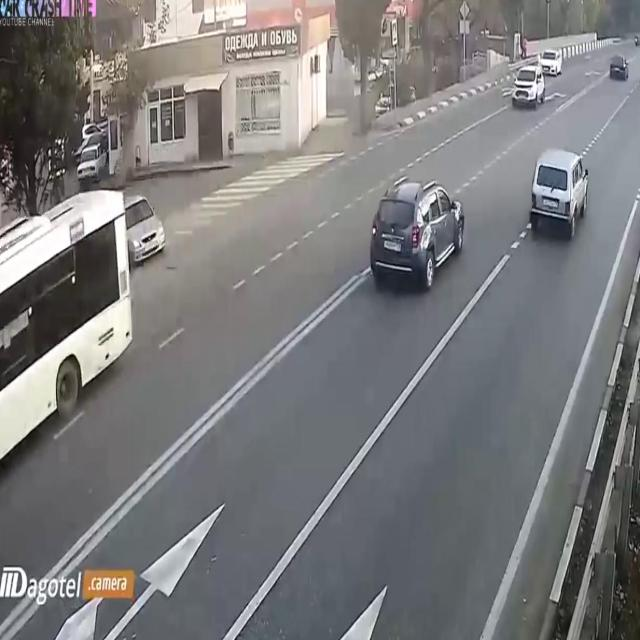non_accident: (508, 39, 566, 120), (66, 112, 114, 192)
